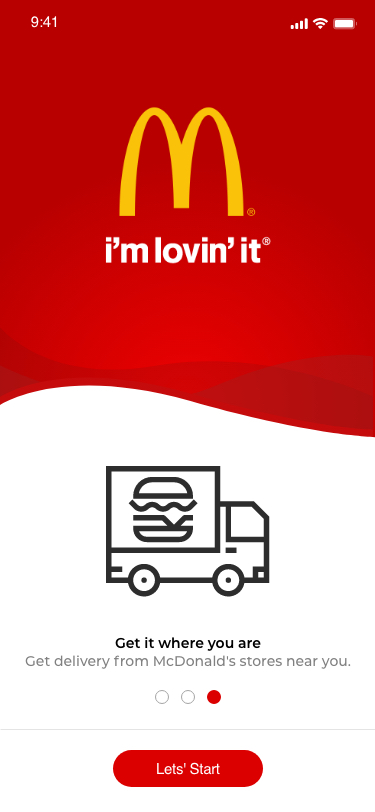Image: (106, 107, 272, 265), (106, 466, 270, 597)
PageIndicator: (154, 689, 223, 706)
Text: (26, 654, 351, 670), (115, 636, 262, 651)
TextButton: (113, 750, 264, 787)
UpperTaskBar: (31, 16, 358, 31)
